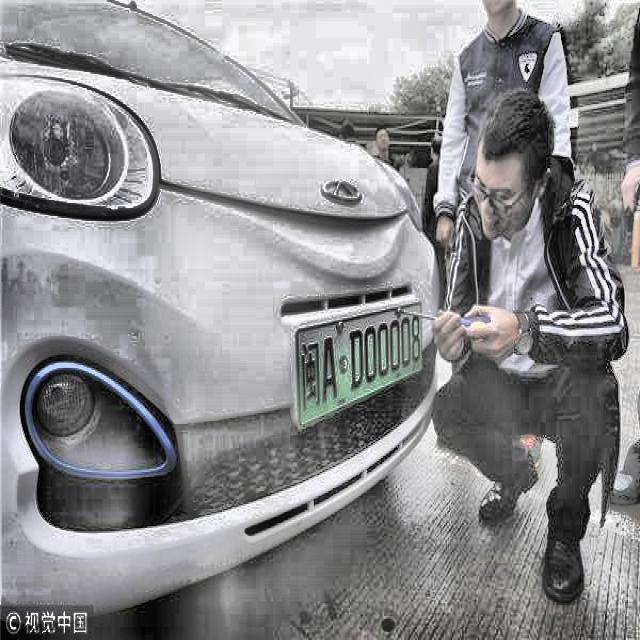license_plate: (298, 306, 424, 408)
